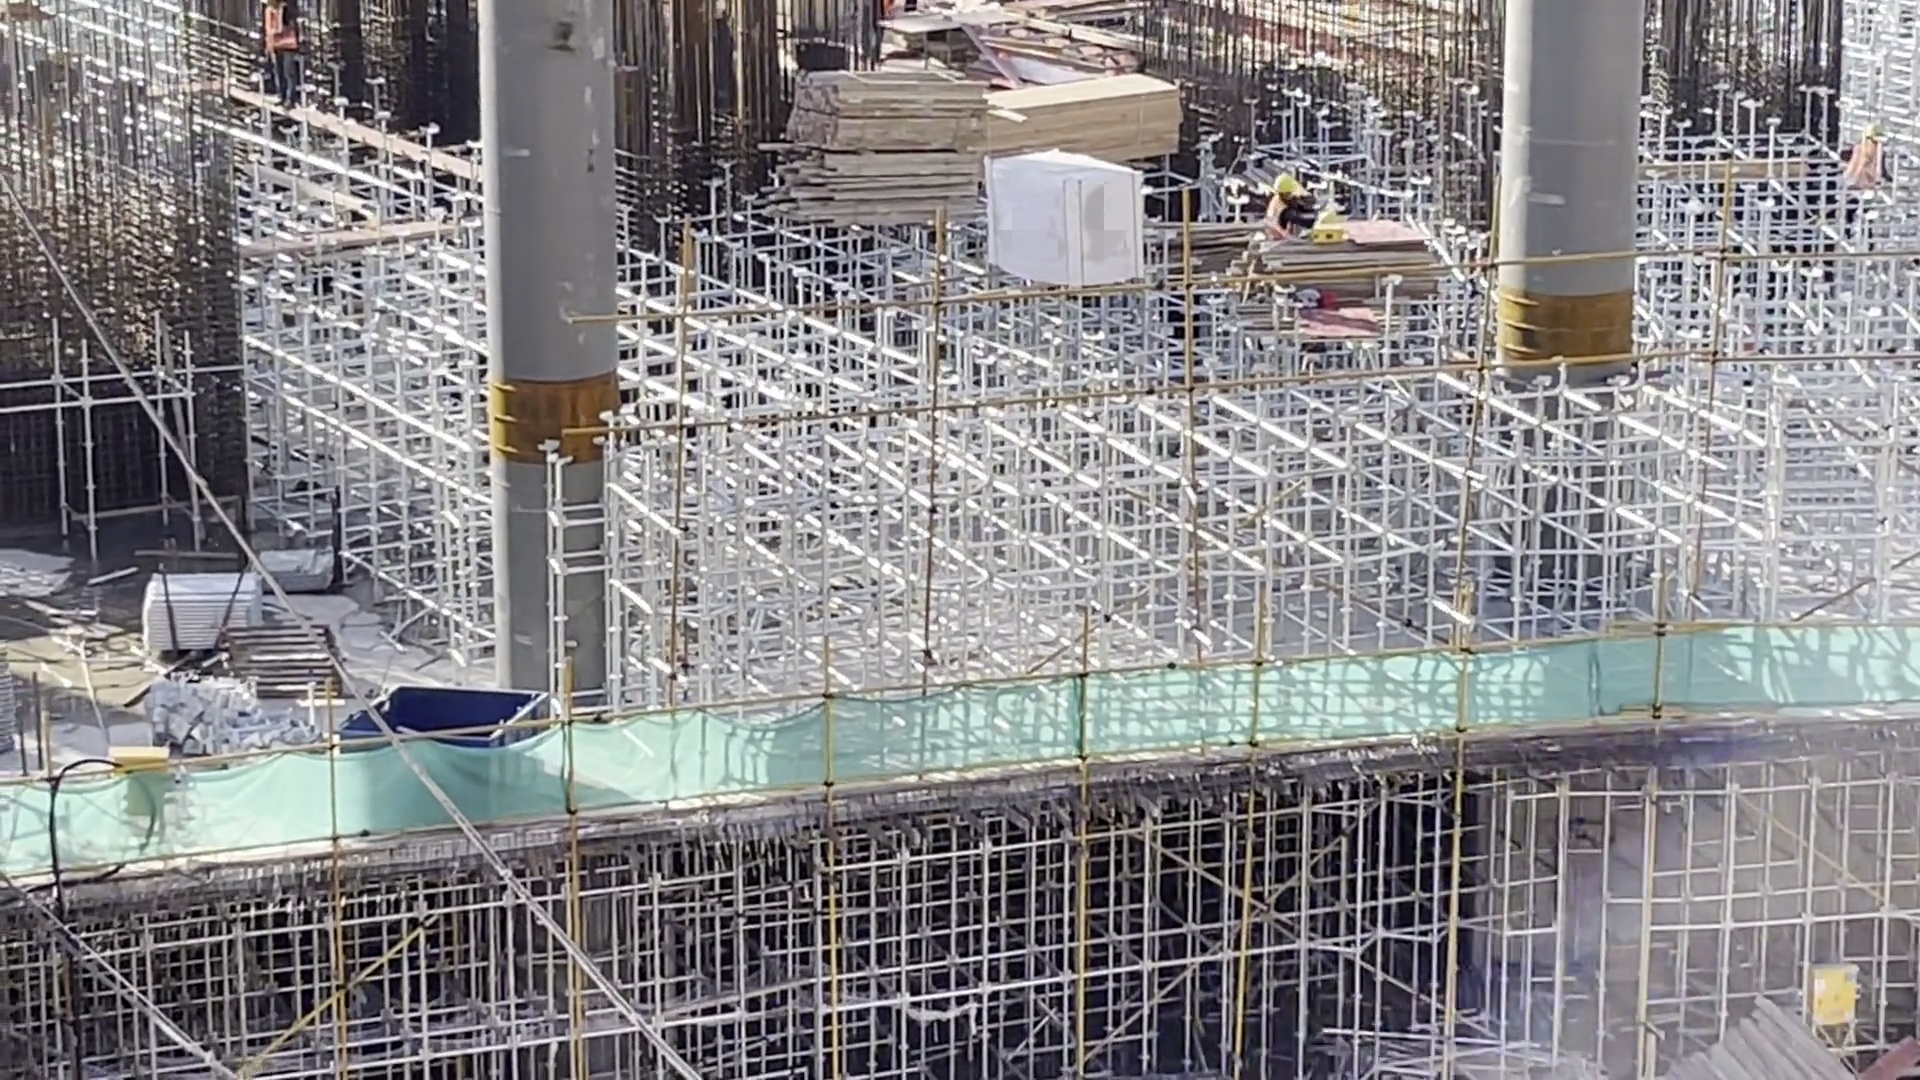board: (1253, 212, 1431, 306)
ebox: (101, 744, 166, 829), (1809, 942, 1874, 1014)
helmet: (1280, 176, 1300, 195), (1869, 124, 1889, 139)
hopper: (364, 671, 553, 792)
person: (1841, 108, 1881, 252), (266, 1, 316, 101), (1271, 175, 1301, 233)
scaffold: (131, 574, 273, 659)
vest: (254, 1, 302, 56), (1262, 199, 1304, 232), (1853, 152, 1886, 187)
wood: (831, 101, 979, 246), (1006, 74, 1219, 171), (1656, 982, 1856, 1080)
